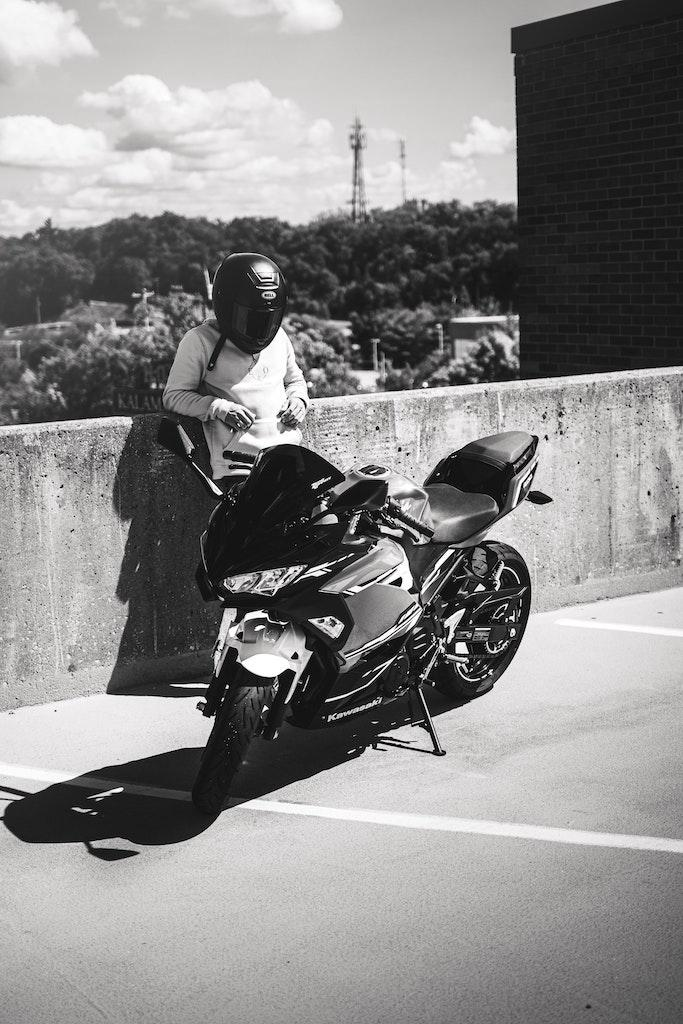helmet: (211, 251, 288, 355)
